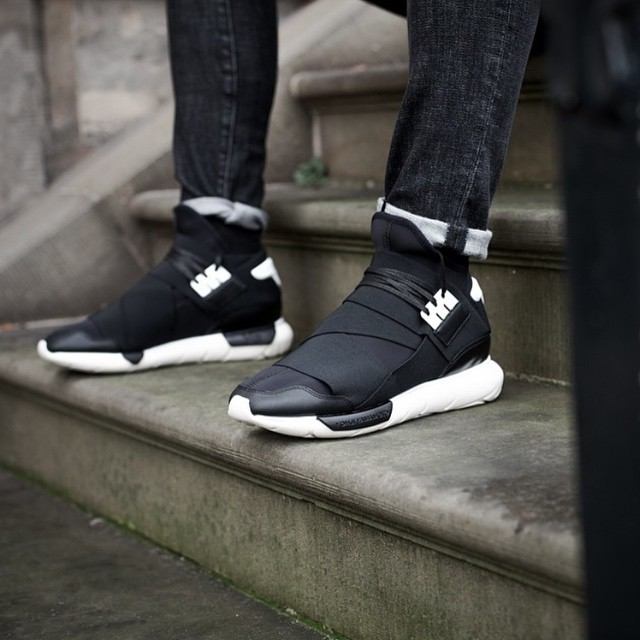sneaker: (210, 199, 519, 456), (20, 175, 314, 403)
